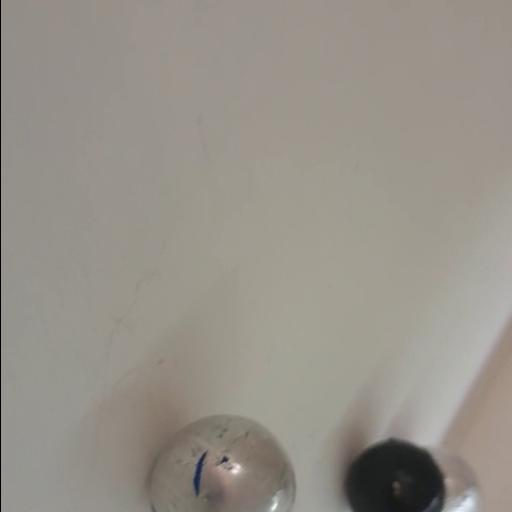alive: (146, 413, 294, 510), (426, 450, 480, 509)
dead: (346, 439, 442, 511)
